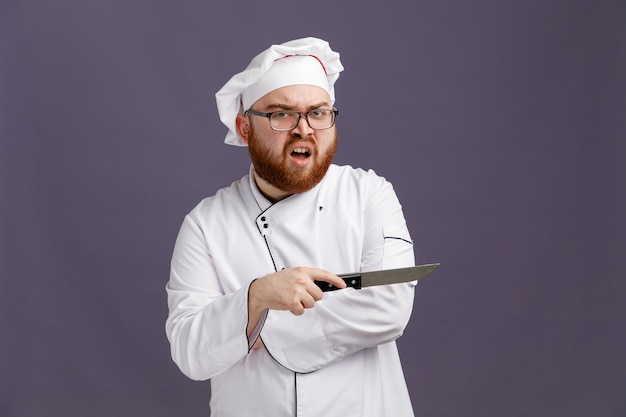knife: (313, 263, 444, 293)
